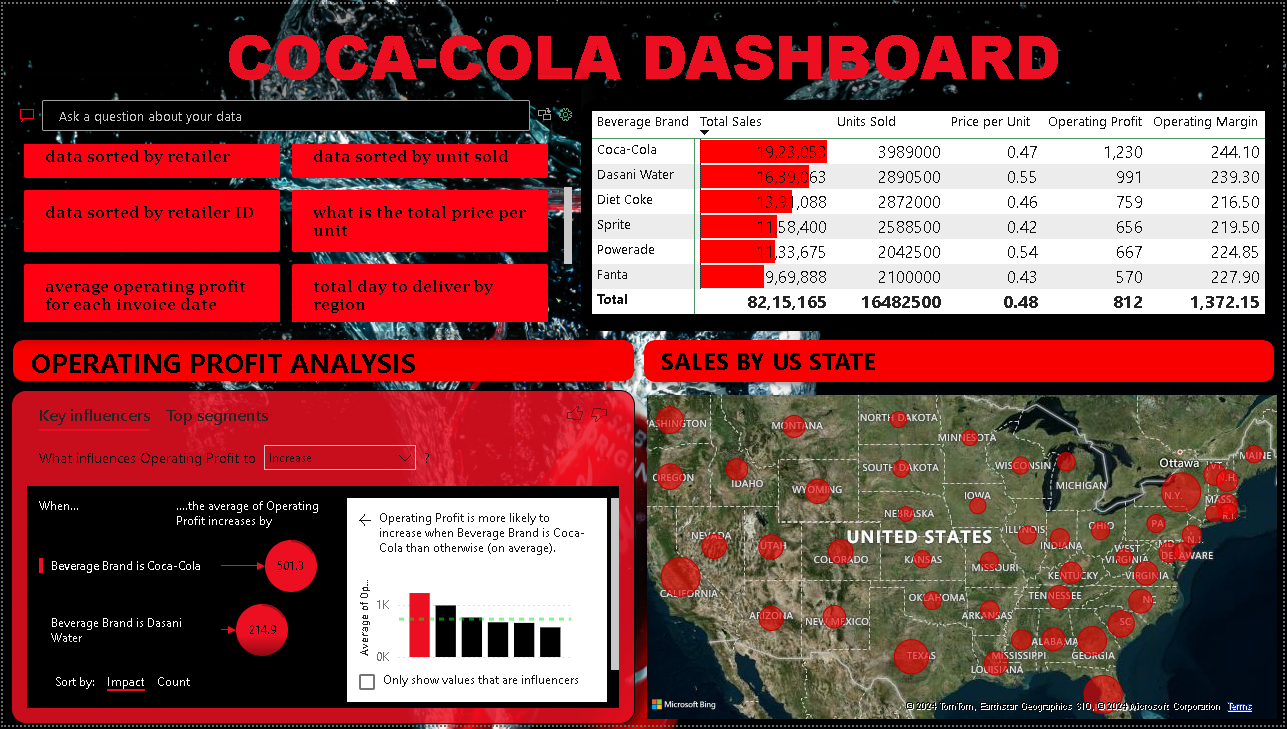

The page's visual inventory and layout, read from the dashboard file:
{"tool":"powerbi","page":{"name":"Page 1","canvas":[1280,721],"ordinal":0},"visuals":[{"type":"shape","box":[17,0,1246.6,95.8],"z":0},{"type":"shape","box":[0.9,326.9,639.4,59.1],"z":1000},{"type":"shape","box":[632,327,648,60],"z":2000},{"type":"qnaVisual","box":[8.1,70.7,569.6,256.1],"z":3000},{"type":"map","fields":{"Category":["Data.State"],"Size":["Sum(Data.Total Sales)"]},"box":[639,386,640,334],"z":4000},{"type":"pivotTable","fields":{"Rows":["Data.Beverage Brand"],"Values":["Sum(Data.Total Sales)","Sum(Data.Units Sold)","Avg(Data.Price per Unit)","Avg(Data.Operating Profit)","Sum(Data.Operating Margin)"]},"box":[577.6,95.8,702.1,231],"z":5000},{"type":"keyDriversVisual","fields":{"Target":["Data.Operating Profit"],"ExplainBy":["Data.Beverage Brand"]},"box":[8,386,624,334],"z":8001}]}

Visuals, with their boxes in screenshot pixels (x1, y1, x2, y2), scaled from the page's 1280x721 canvas onto the 1287x729 screenshot:
shape: 17,0,1271,97
shape: 1,331,644,390
shape: 635,331,1286,391
qnaVisual: 8,71,581,330
map - Data.State x Sum(Data.Total Sales): 642,390,1286,728
pivotTable - Data.Beverage Brand x Sum(Data.Total Sales): 581,97,1286,330
keyDriversVisual - Data.Operating Profit x Data.Beverage Brand: 8,390,635,728
